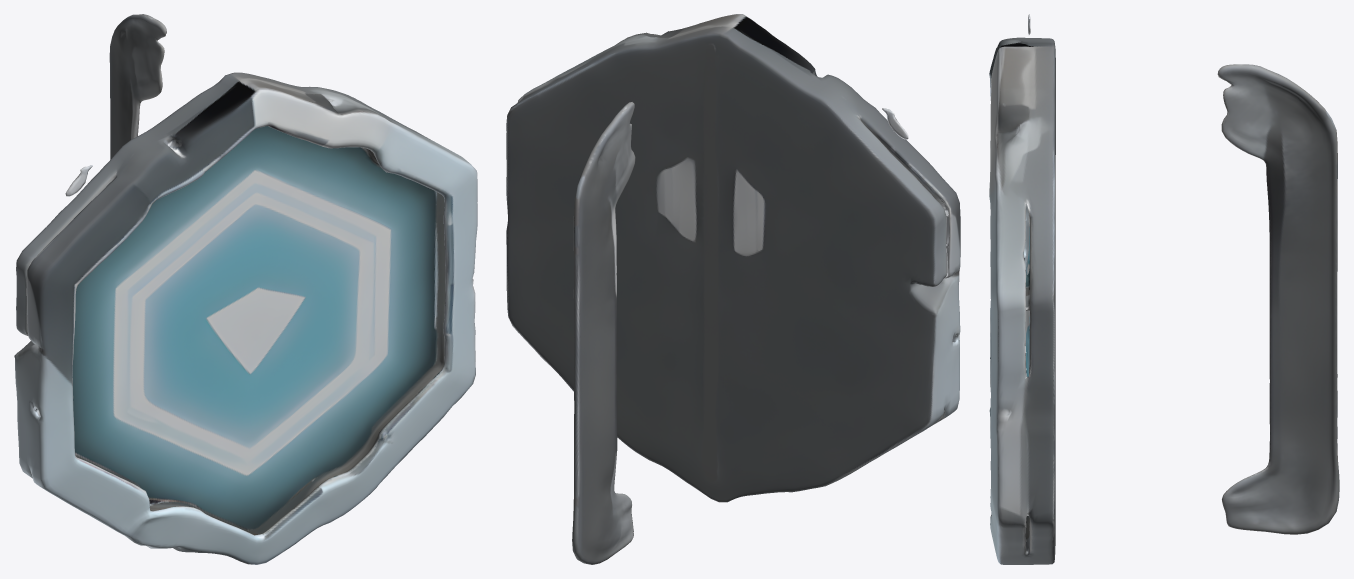
Rendered from powerup-shield.glb.
3 views of the same model, side by side, from view 1: azimuth 30°, elevation 25°; view 2: azimuth 150°, elevation 25°; view 3: azimuth 270°, elevation 25° (orthographic). The views are drawn at different scales.
Visible parts, largest first — view 1: model; view 2: model; view 3: model.
Part boxes in pixels (x1,y1,x2,y2): model: (14,14,477,564); model: (506,14,960,564); model: (989,14,1339,564).
Bounding box in the file's own units: 1.83 × 1.89 × 1.19.
Materials: 1 (1 with a texture image).
